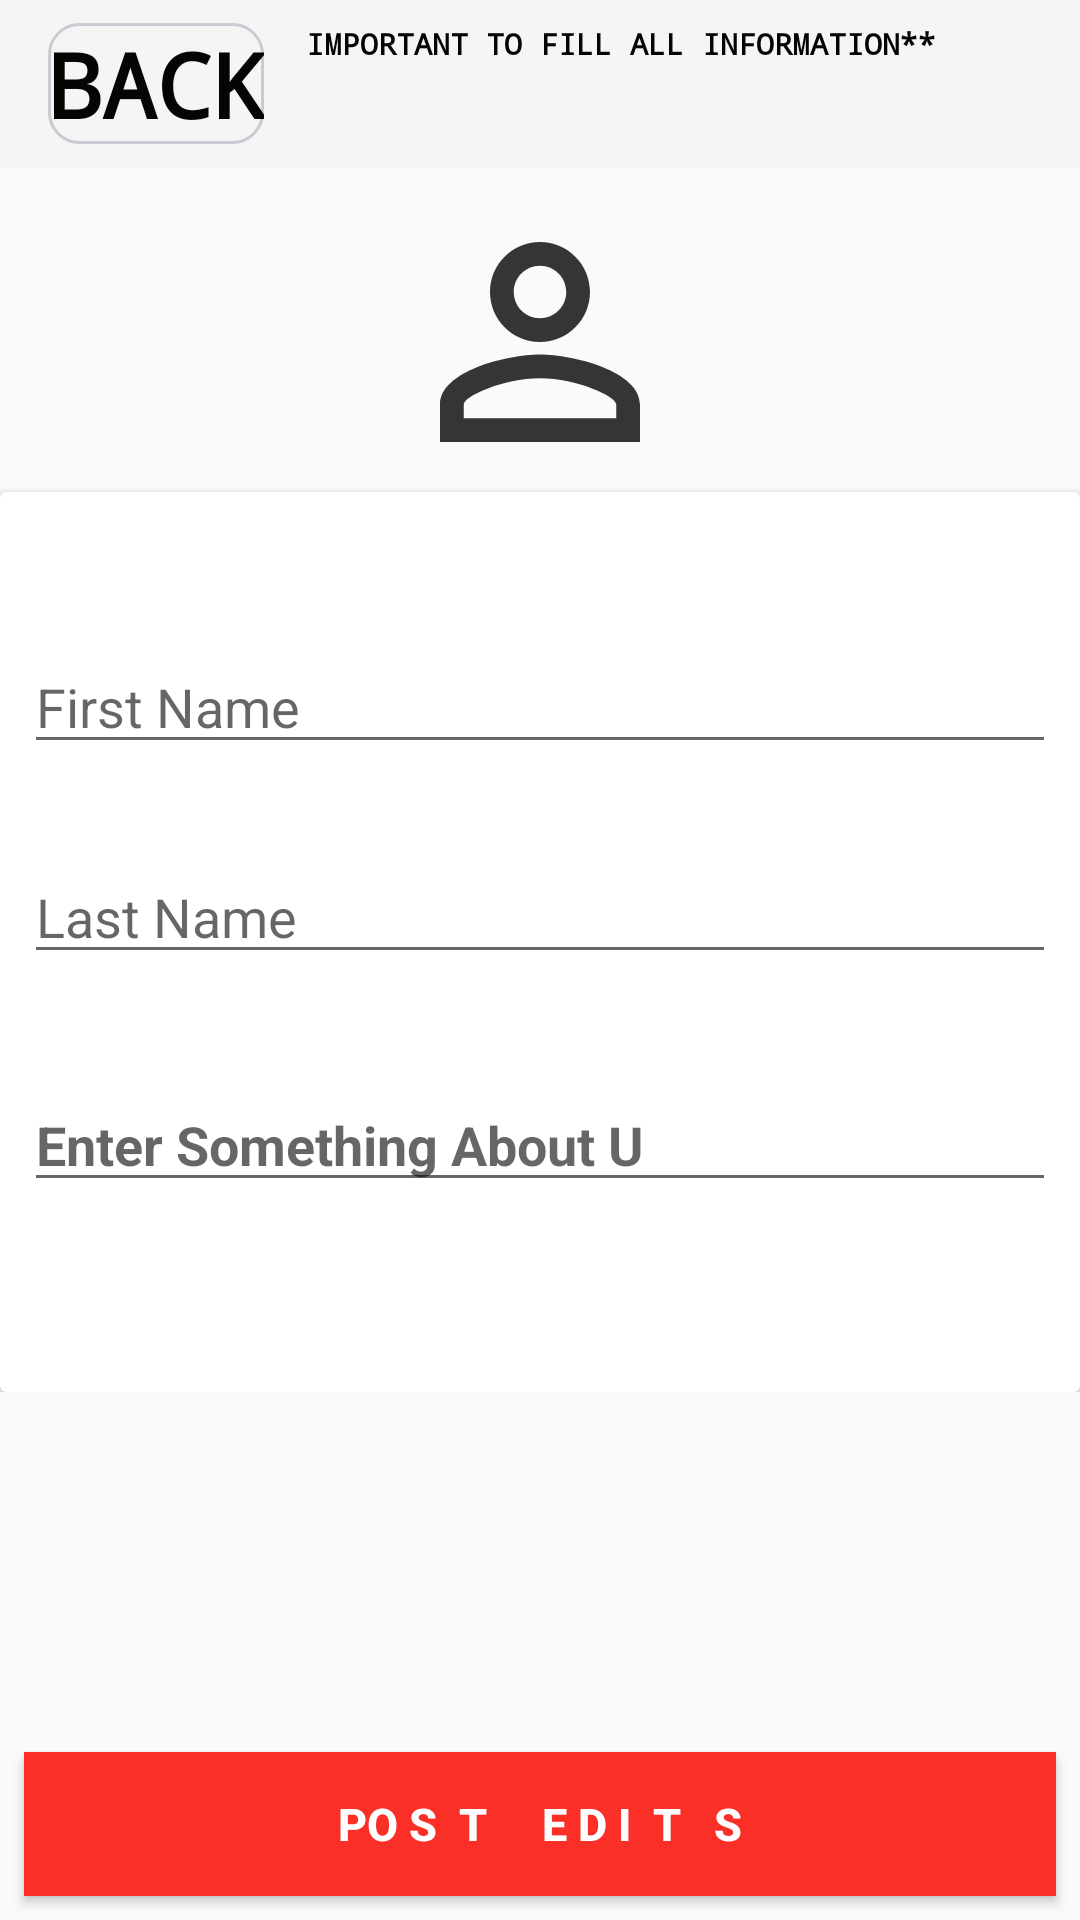

Where icons sit on this 1080px x 1920px app screen, as (x1,y1,x2,y2):
profile: (440,242,640,442)
